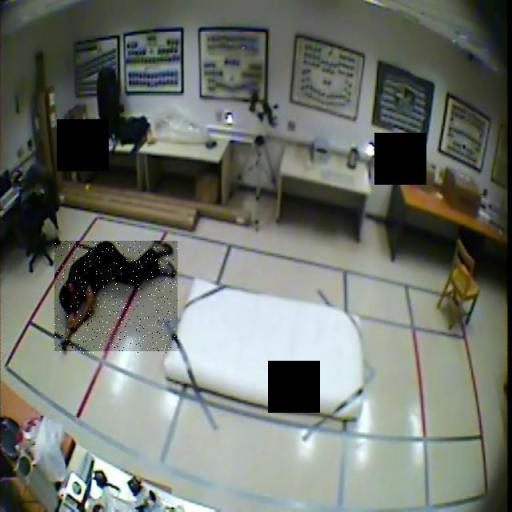Fall: (55, 242, 178, 354)
